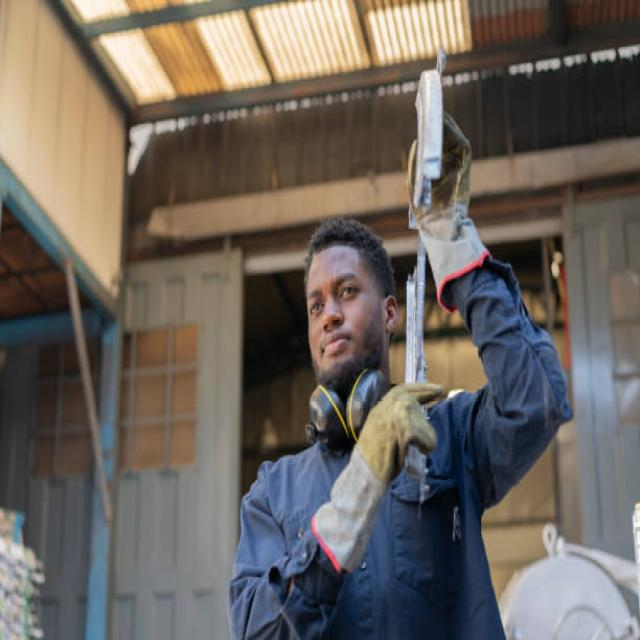Gloves: (304, 380, 453, 586), (404, 105, 489, 325)
person: (227, 102, 574, 640)
